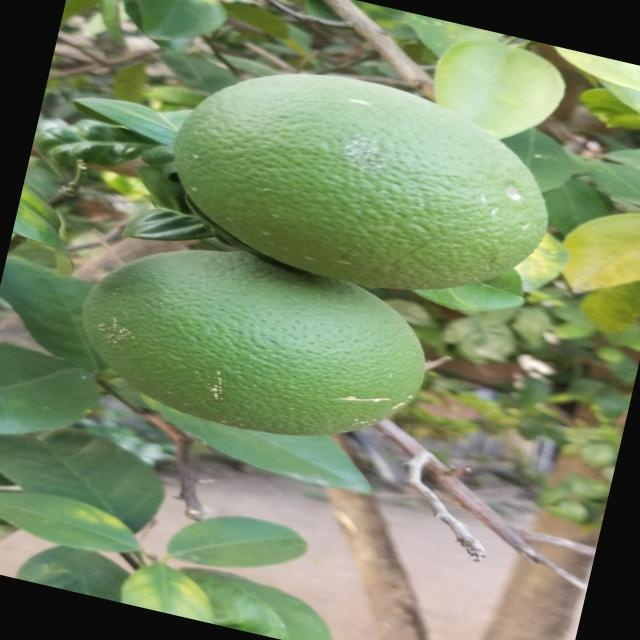agrume: (144, 35, 573, 326), (56, 213, 450, 471)
